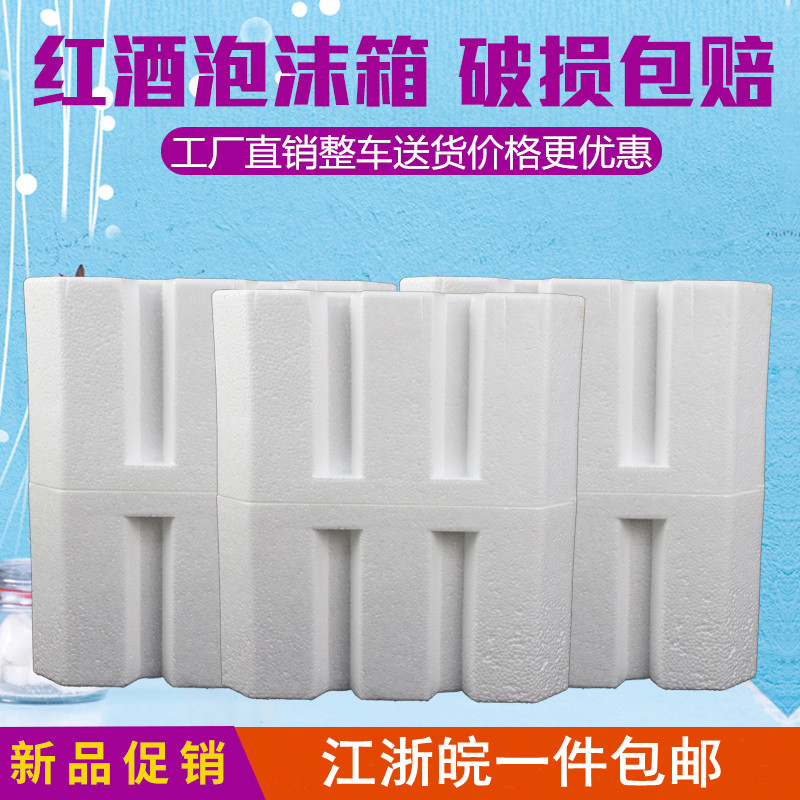泡沫箱: (26, 278, 770, 701)
